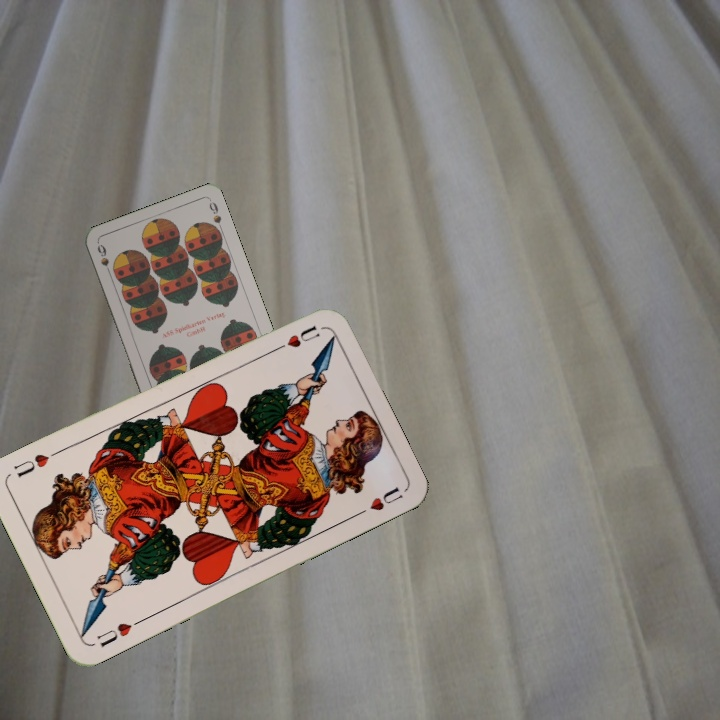HU: (268, 321, 323, 355), (93, 615, 144, 650)
S9: (93, 240, 114, 279)
